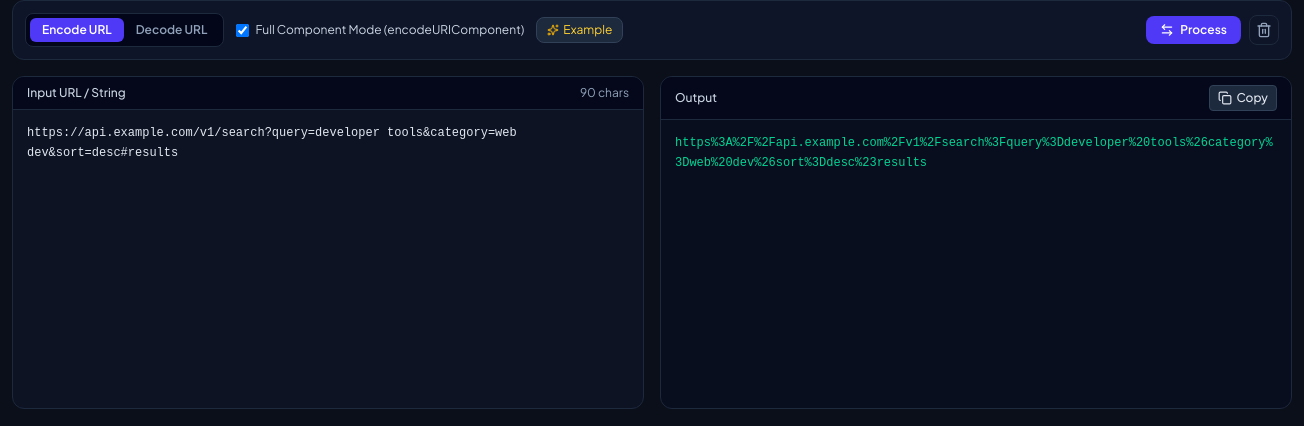
Test: UrlEncoderDecoder Tool › decodes encoded URLs correctly
Click the button "Decode URL" at (172, 30), box [124,18,219,42]
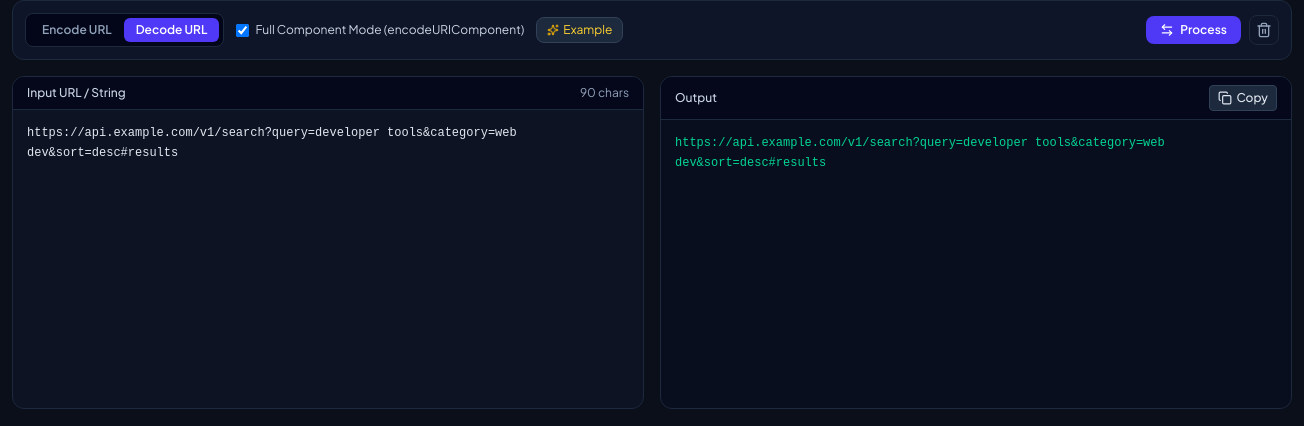
Replace the text in the text box with placeholder "Type or paste URL here..." with "https%3A%2F%2Fexample.com%2Fsearch%3Fq%3Dtest%20%26%20user" at (328, 254), box [13,110,643,398]
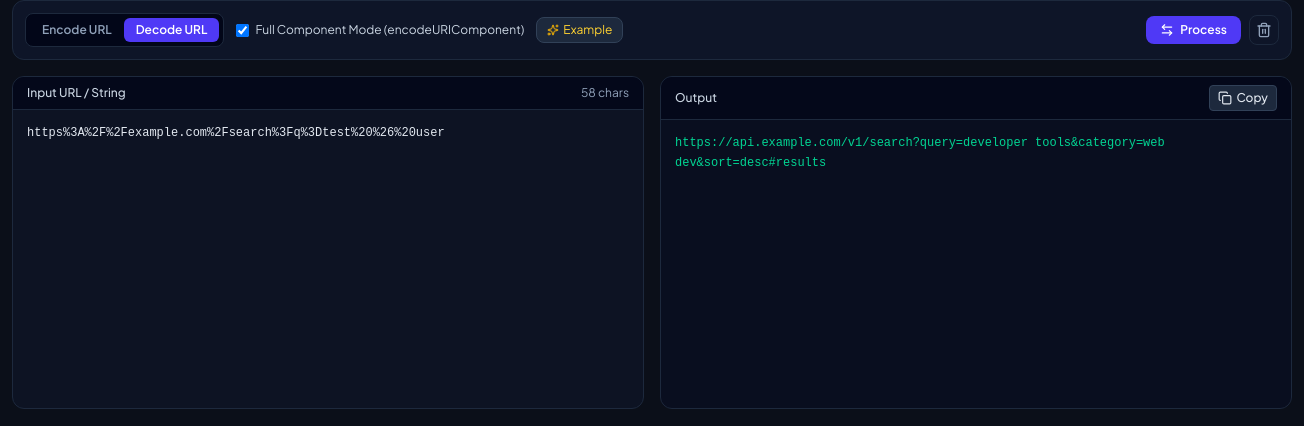
Click the button "Process" at (1194, 30), box [1146,16,1241,44]
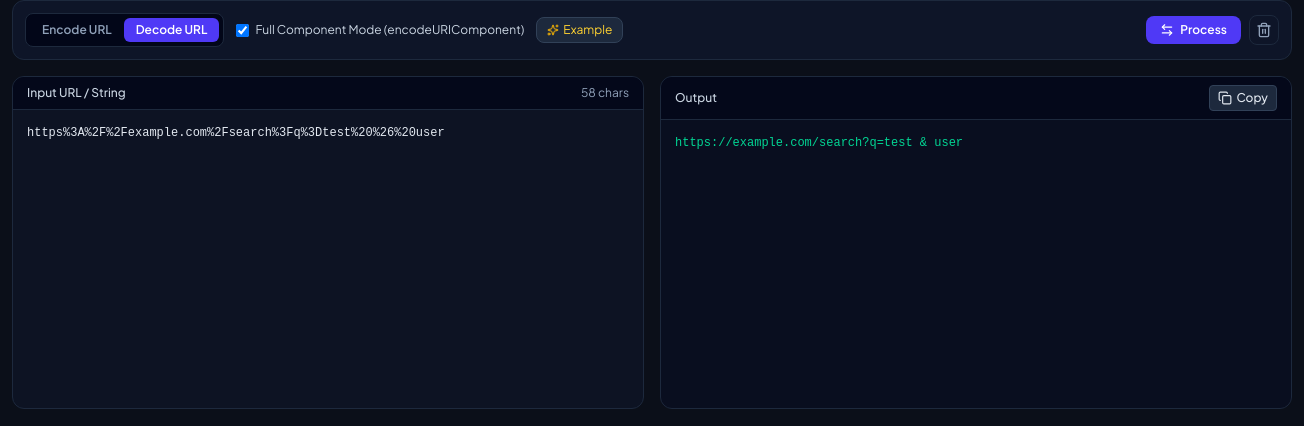
Expected: the text box with placeholder "Processed output will appear here..." holds "https://example.com/search?q=test & user", [661,120,1291,408]
